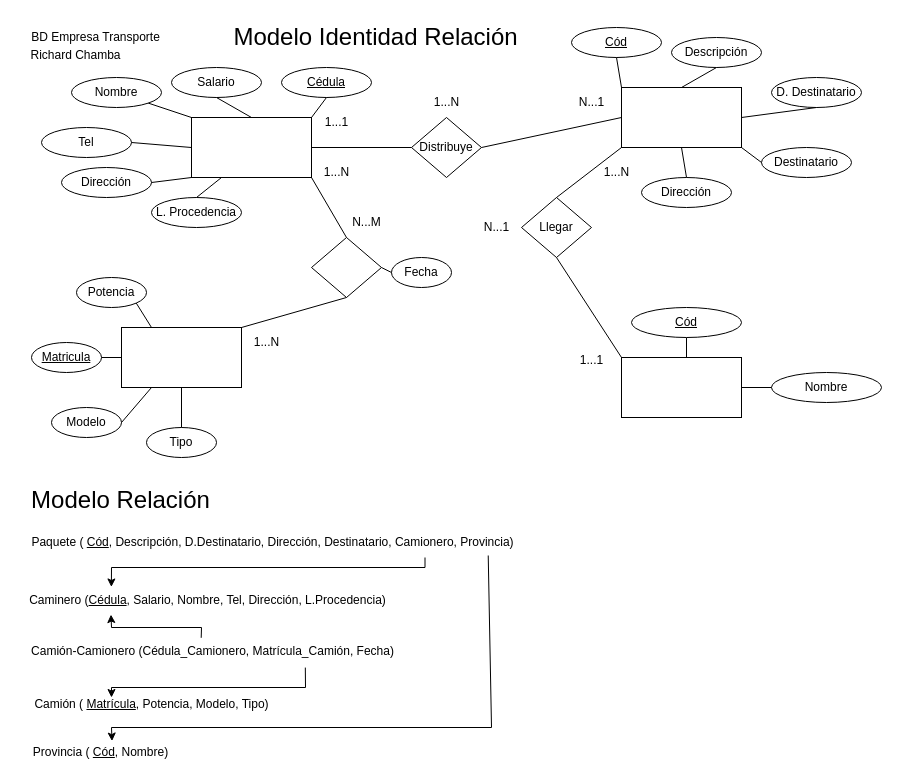
Image size: 899x784. Some labels were removed from this diagram. Each missing label, with the box of its shape:
Camionero: (190, 116, 312, 178)
Camión: (120, 326, 242, 388)
Conduce: (310, 236, 382, 298)
Paquete: (620, 86, 742, 148)
Provincia: (620, 356, 742, 418)
